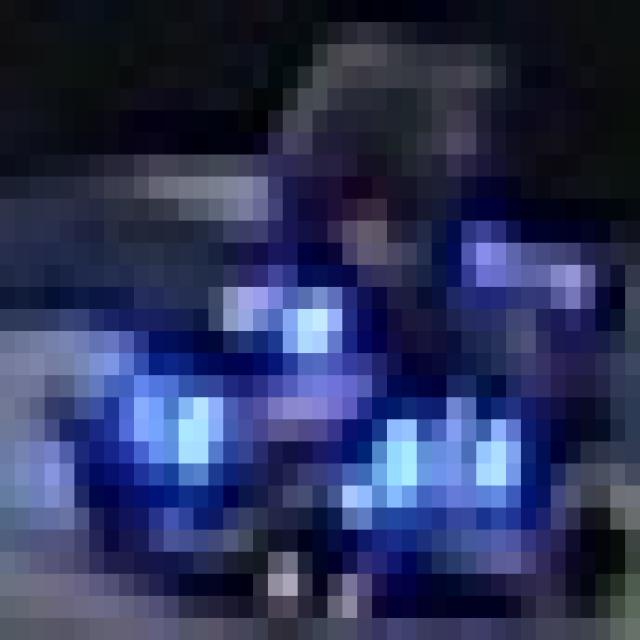B4: (372, 353, 521, 530)
